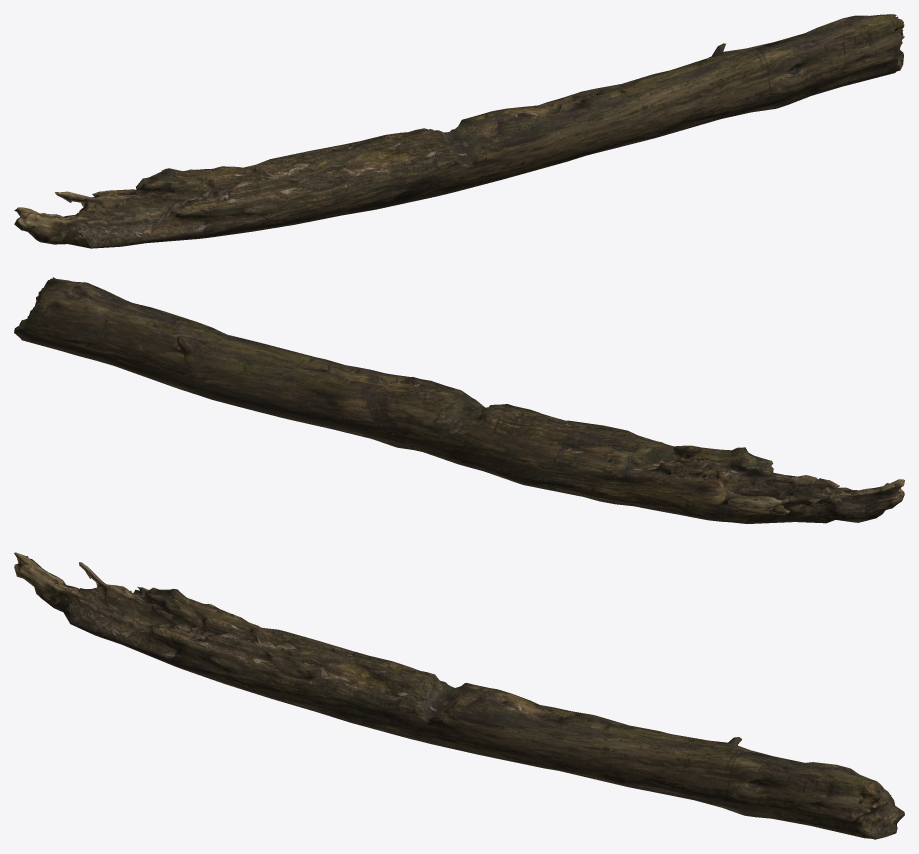
Rendered from dead_tree_trunk.glb.
The picture shows the model from 3 angles, top to bottom: view 1: azimuth 30°, elevation 25°; view 2: azimuth 150°, elevation 25°; view 3: azimuth 330°, elevation 25°; orthographic projection.
Visible parts, largest first — view 1: dead_tree_trunk__lodS; view 2: dead_tree_trunk__lodS; view 3: dead_tree_trunk__lodS.
Part boxes in pixels (x1=…): dead_tree_trunk__lodS: x1=14, y1=14, x2=904, y2=248; dead_tree_trunk__lodS: x1=14, y1=277, x2=904, y2=523; dead_tree_trunk__lodS: x1=14, y1=552, x2=904, y2=839.
Size of what is drawn, in the model's own units: 3.05 by 0.2885 by 0.2762.
Materials: 1 (1 with a texture image).
